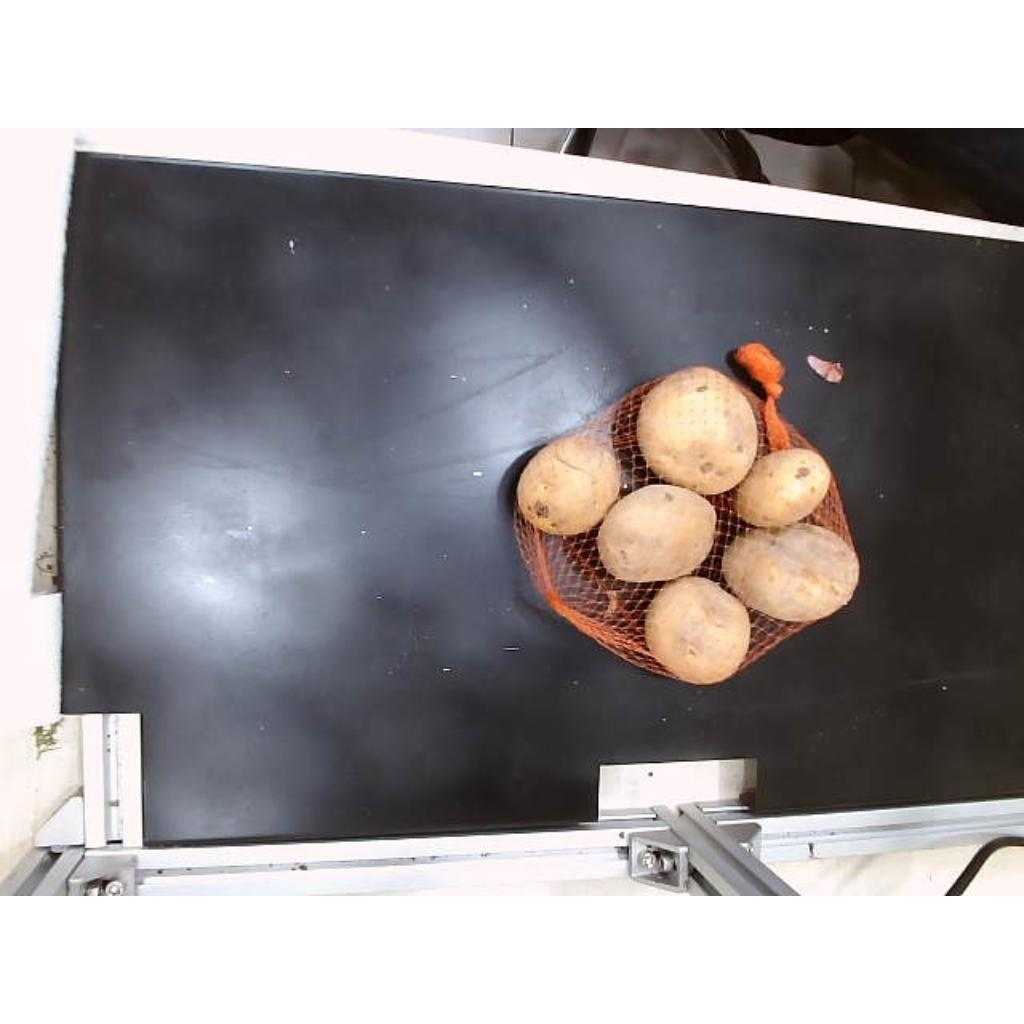potato: (636, 366, 758, 495), (722, 522, 858, 622), (598, 484, 716, 581), (646, 576, 748, 684), (518, 434, 620, 535), (738, 452, 832, 527)
